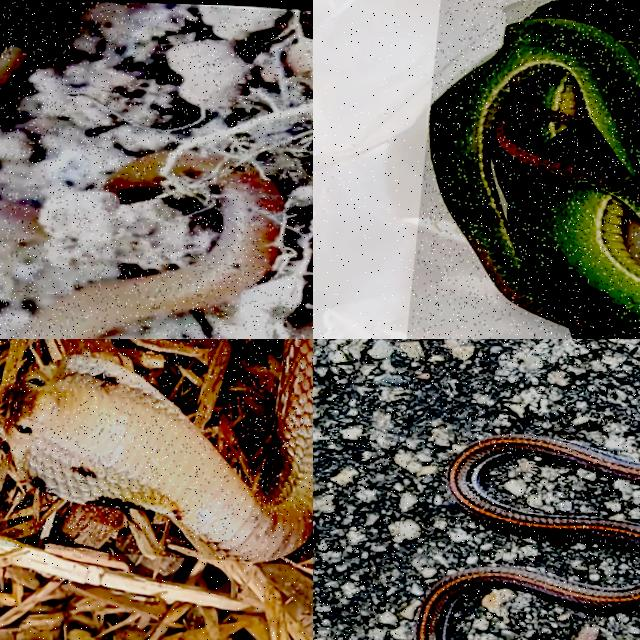Calliophis intestinalis: (449, 434, 639, 548)
Calliophis maculiceps: (11, 170, 282, 338)
Naja kaouthia: (8, 339, 312, 561)
Trimeresurus: (428, 0, 639, 338)
snake: (428, 0, 639, 338), (8, 339, 312, 561), (11, 170, 282, 338), (449, 434, 639, 548)
